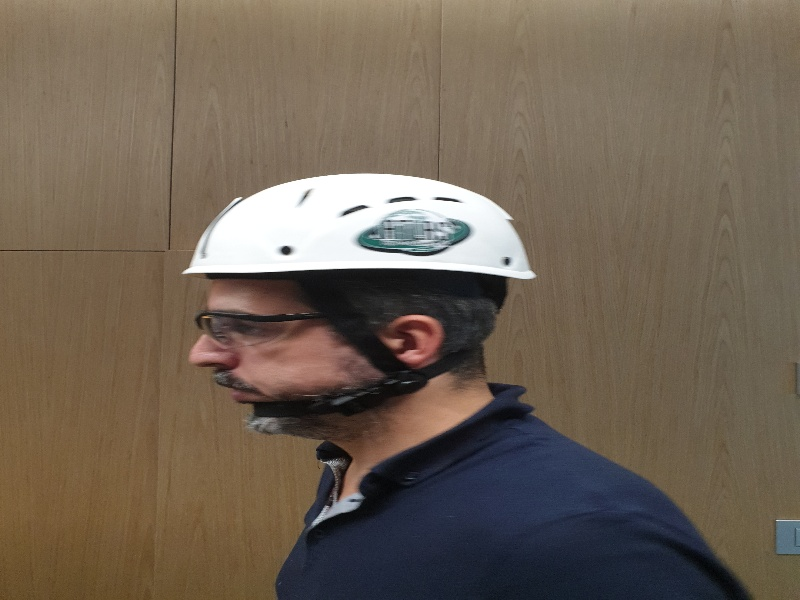Baret: (186, 174, 545, 288)
Gozluk: (191, 305, 342, 349)
